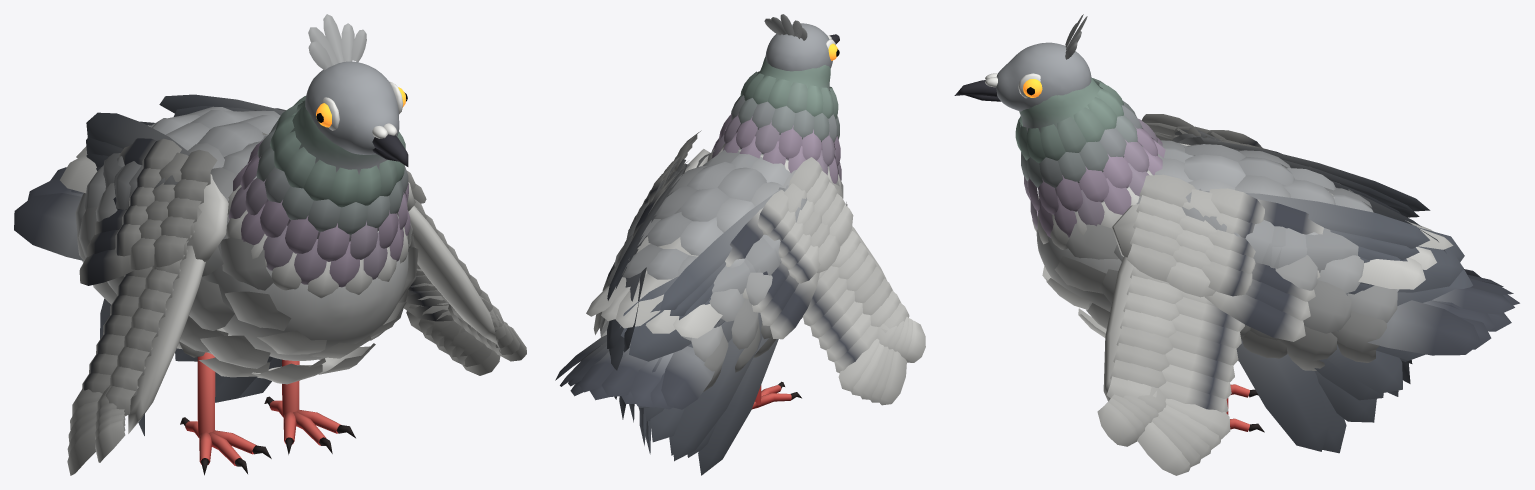
Rendered from taube.glb.
The picture shows the model from 3 angles, left to right: view 1: azimuth 30°, elevation 25°; view 2: azimuth 150°, elevation 25°; view 3: azimuth 270°, elevation 25°; orthographic projection. The views are drawn at different scales.
Parts seen in each view (by area): view 1: taube_hals_netz2, taube_koerper_netz2, taube_arm_r_netz1, taube_arm_l_netz1, taube_koerper_netz1, taube_decke_r_netz1, taube_kopf_netz1, taube_sf_0_netz1, taube_hals_netz1, taube_kopf_netz2, taube_fluegel_r_netz1, taube_hs_r_0_netz1 (+12 smaller); view 2: taube_koerper_netz2, taube_arm_r_netz1, taube_handoffen_r_netz1, taube_hals_netz2, taube_decke_r_netz1, taube_buerzel_netz1, taube_handoffen_l_netz1, taube_hs_r_0_netz1, taube_kopf_netz1, taube_sf_0_netz1, taube_as_r_5_netz1, taube_hals_netz1 (+13 smaller); view 3: taube_arm_l_netz1, taube_koerper_netz2, taube_handoffen_l_netz1, taube_hals_netz2, taube_decke_l_netz1, taube_sf_1_netz1, taube_kopf_netz1, taube_hs_l_0_netz1, taube_buerzel_netz1, taube_as_l_5_netz1, taube_hals_netz1, taube_hs_r_0_netz1 (+12 smaller).
Part boxes in pixels (x1,y1,x2,y2): taube_hals_netz2: (226,96,410,298); taube_koerper_netz2: (75,106,418,384); taube_arm_r_netz1: (67,207,205,475); taube_arm_l_netz1: (404,196,526,375); taube_koerper_netz1: (201,134,408,360); taube_decke_r_netz1: (115,138,217,269); taube_kopf_netz1: (305,61,399,154); taube_sf_0_netz1: (14,193,83,260); taube_hals_netz1: (265,101,386,241); taube_kopf_netz2: (308,14,366,70); taube_fluegel_r_netz1: (187,174,228,261); taube_hs_r_0_netz1: (86,112,190,155); taube_koerper_netz2: (599,148,847,391); taube_arm_r_netz1: (803,226,925,405); taube_handoffen_r_netz1: (620,185,807,475); taube_hals_netz2: (707,71,841,186); taube_decke_r_netz1: (757,157,853,283); taube_buerzel_netz1: (586,236,722,338); taube_handoffen_l_netz1: (607,156,689,454); taube_hs_r_0_netz1: (660,189,780,309); taube_kopf_netz1: (765,23,832,71); taube_sf_0_netz1: (661,346,714,409); taube_as_r_5_netz1: (770,272,819,339); taube_hals_netz1: (736,56,830,160); taube_arm_l_netz1: (1097,256,1244,475); taube_koerper_netz2: (1042,140,1399,370); taube_handoffen_l_netz1: (1182,189,1472,453); taube_hals_netz2: (1015,78,1165,249); taube_decke_l_netz1: (1126,174,1264,297); taube_sf_1_netz1: (1367,300,1481,355); taube_kopf_netz1: (996,42,1091,111); taube_hs_l_0_netz1: (1202,190,1429,248); taube_buerzel_netz1: (1328,191,1453,289); taube_as_l_5_netz1: (1205,291,1305,341); taube_hals_netz1: (1019,77,1141,195); taube_hs_r_0_netz1: (1201,138,1430,211).
Bounding box in the file's own units: 0.32 × 0.3788 × 0.4463.
